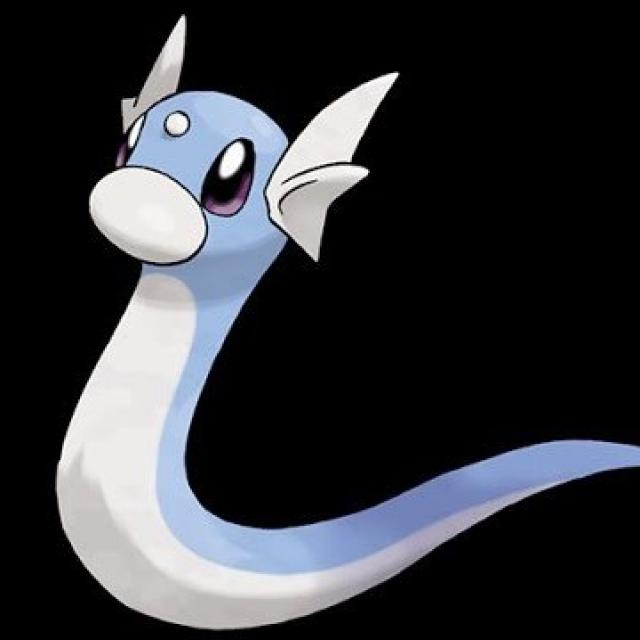Dratini: (51, 60, 425, 637)
